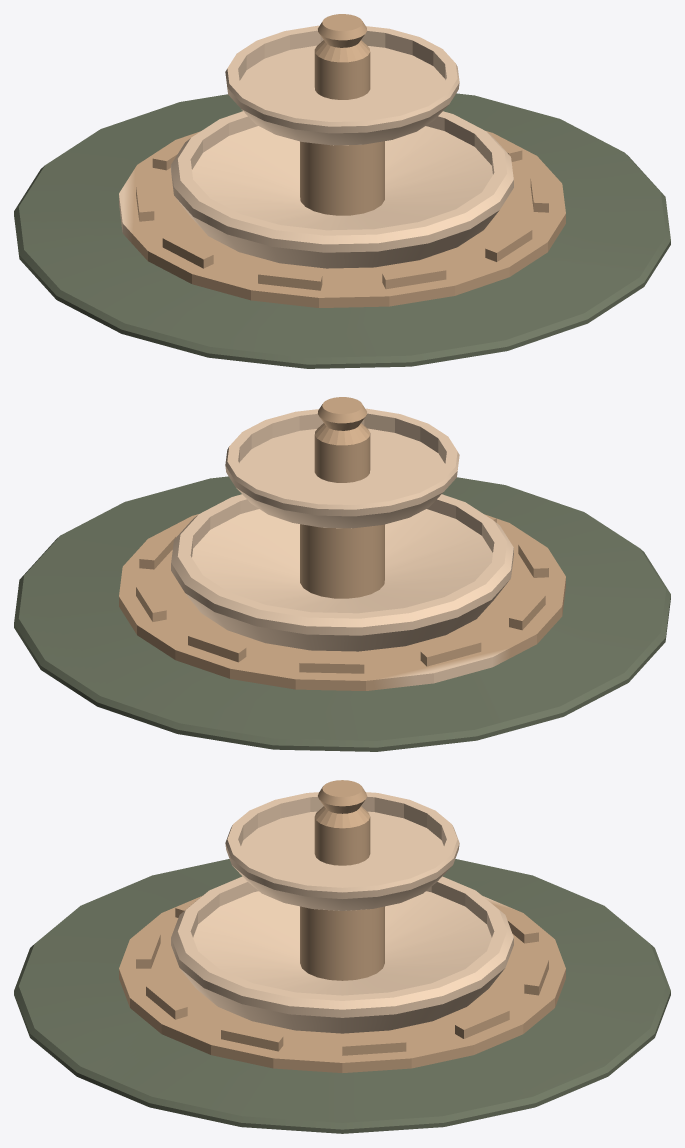
File: Flooer_Park_Fountain.fbx
3 views of the same model, one above another, from view 1: azimuth 30°, elevation 25°; view 2: azimuth 150°, elevation 25°; view 3: azimuth 270°, elevation 25° (orthographic).
Parts seen in each view (by area): view 1: pCylinder1; view 2: pCylinder1; view 3: pCylinder1.
Part boxes in pixels (x1=…): pCylinder1: x1=14, y1=14, x2=670, y2=368; pCylinder1: x1=14, y1=397, x2=670, y2=751; pCylinder1: x1=14, y1=780, x2=670, y2=1133.
Size of the model in its own units: 675 by 234 by 675.
1 material, 1 textured.
